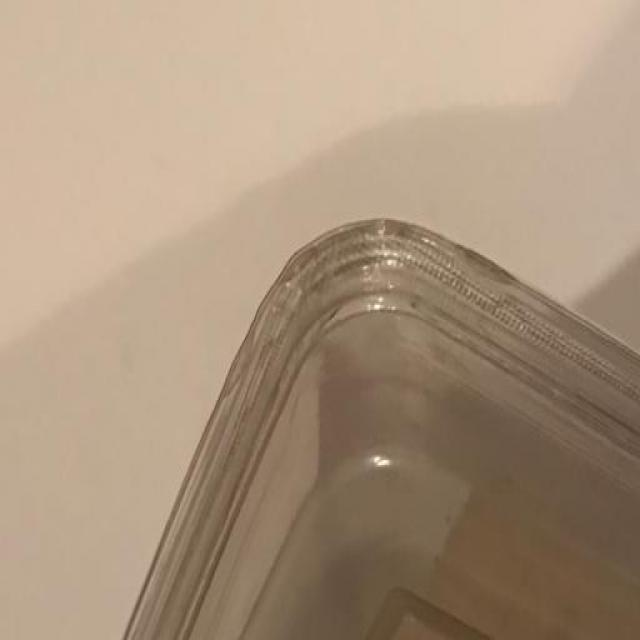plastic: (102, 192, 640, 640)
